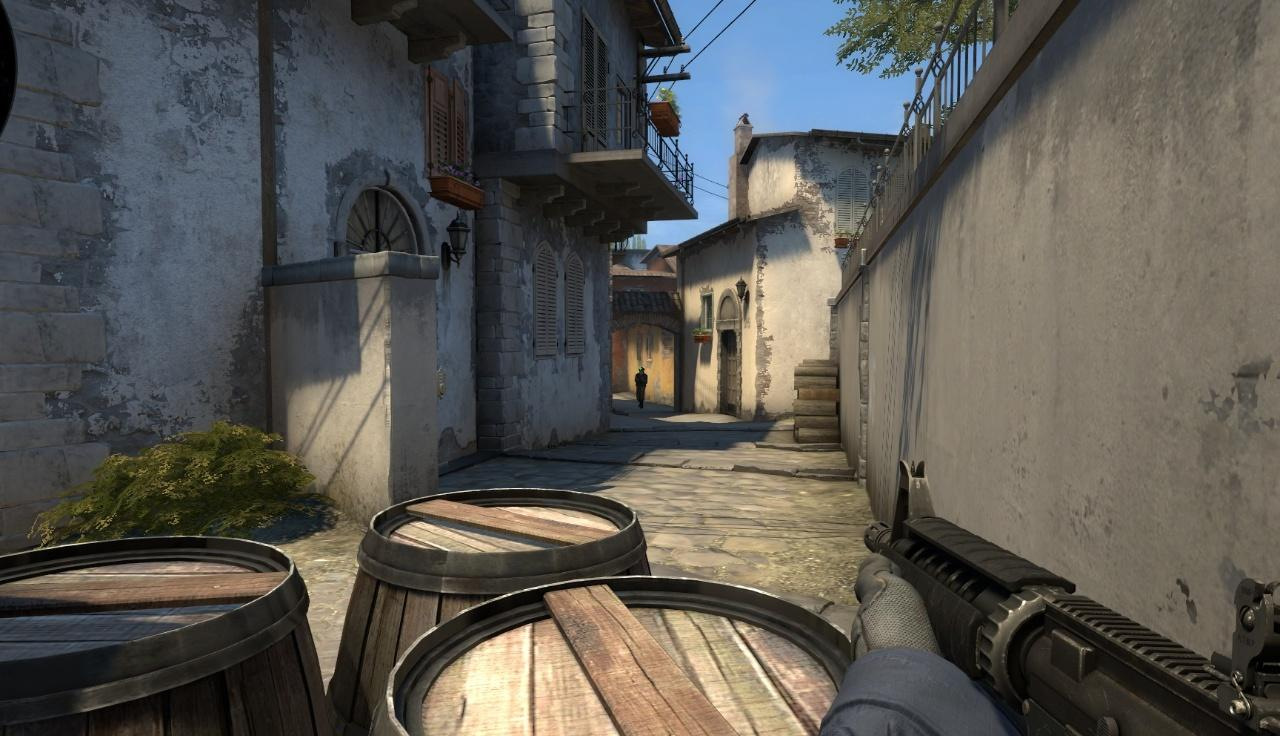rifle: (837, 455, 1280, 736)
tt: (633, 367, 648, 408)
